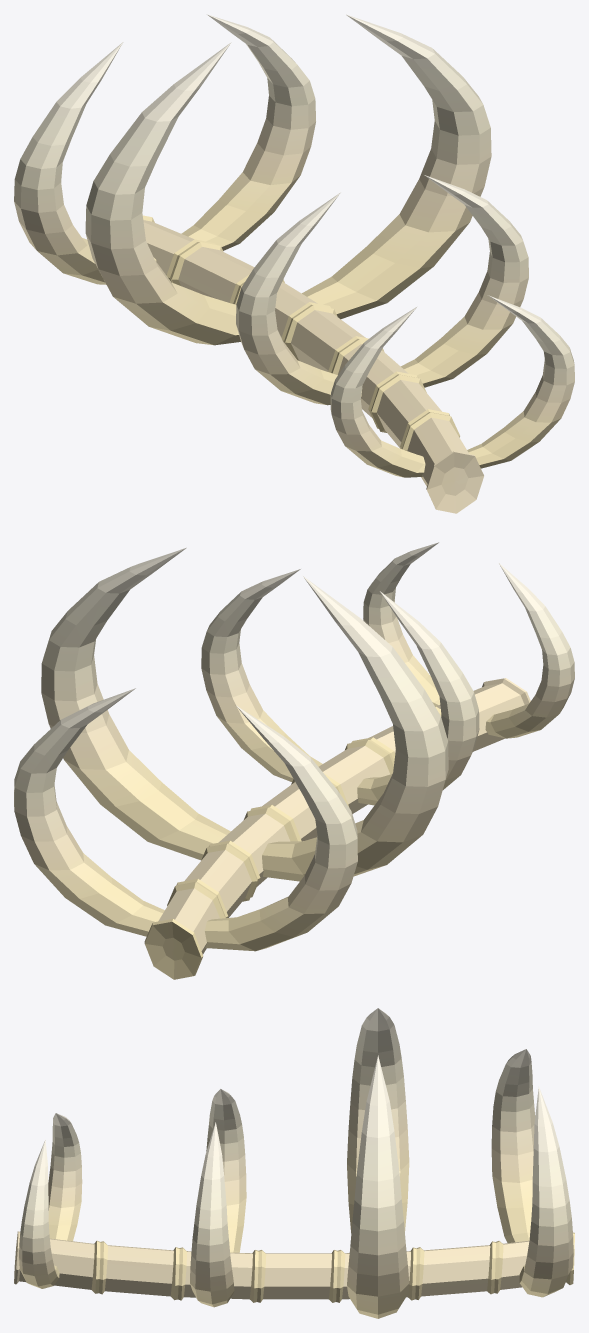
File: carcasse_1.fbx
The picture shows the model from 3 angles, top to bottom: view 1: azimuth 30°, elevation 25°; view 2: azimuth 150°, elevation 25°; view 3: azimuth 270°, elevation 25°; orthographic projection. The views are drawn at different scales.
Visible parts, largest first — view 1: Huesos-C; view 2: Huesos-C; view 3: Huesos-C.
Part boxes in pixels (x1=…): Huesos-C: x1=14, y1=14, x2=574, y2=513; Huesos-C: x1=14, y1=542, x2=574, y2=979; Huesos-C: x1=14, y1=1008, x2=574, y2=1318.
Size of the model in its own units: 185 by 142 by 267.
